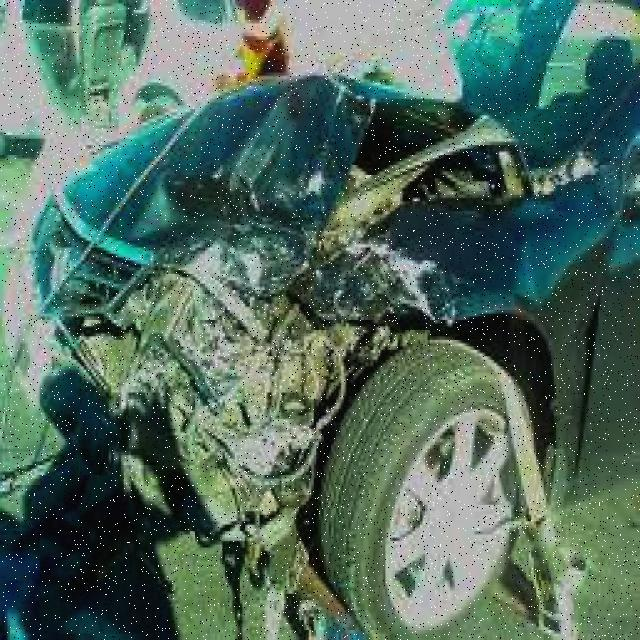car damage: (43, 71, 620, 585)
